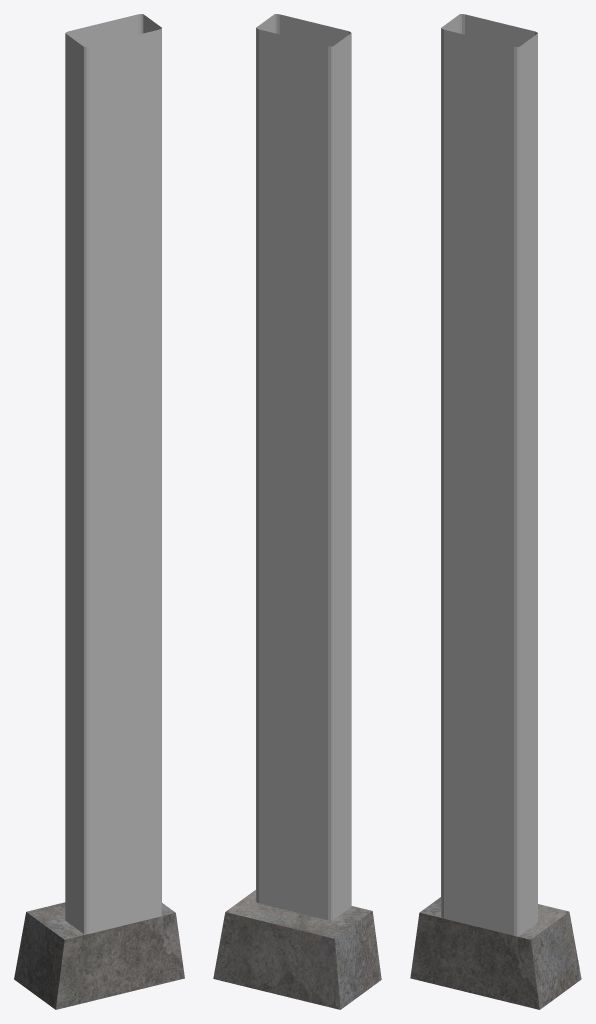
File: SM_Pillar_6.FBX
The picture shows the model from 3 angles, left to right: view 1: azimuth 30°, elevation 25°; view 2: azimuth 150°, elevation 25°; view 3: azimuth 330°, elevation 25°; orthographic projection.
Parts seen in each view (by area): view 1: SM_Pillar_6; view 2: SM_Pillar_6; view 3: SM_Pillar_6.
Part boxes in pixels (bbox=[...]): SM_Pillar_6: bbox=[14, 14, 184, 1009]; SM_Pillar_6: bbox=[213, 14, 381, 1009]; SM_Pillar_6: bbox=[410, 14, 581, 1009].
Bounding box in the file's own units: 64.71 × 457 × 36.24.
